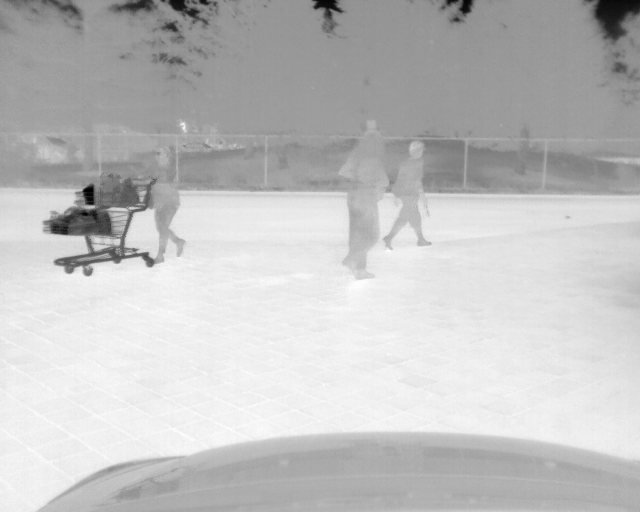people: (338, 131, 390, 280), (141, 143, 187, 265), (385, 141, 434, 249)
